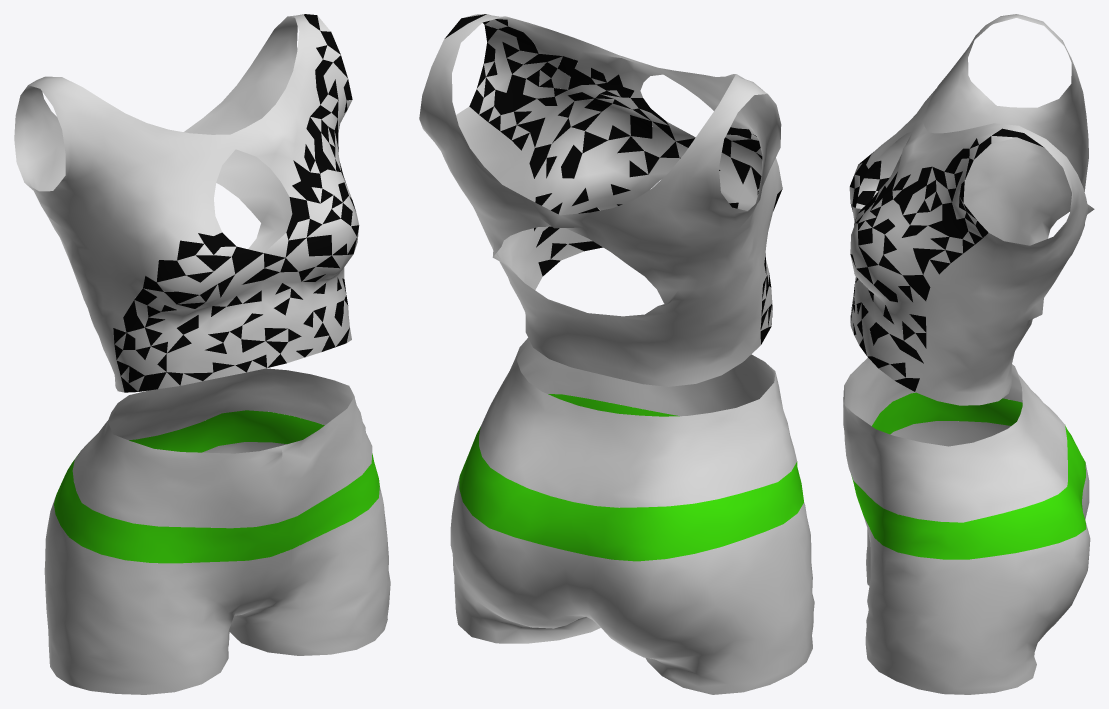
File: femaleGym.gltf
3 views of the same model, side by side, from view 1: azimuth 30°, elevation 25°; view 2: azimuth 150°, elevation 25°; view 3: azimuth 270°, elevation 25° (orthographic). The views are drawn at different scales.
Parts seen in each view (by area): view 1: WhiteGirlUA; view 2: WhiteGirlUA; view 3: WhiteGirlUA.
Boxes of the visible parts, x1=… form: WhiteGirlUA: x1=14, y1=14, x2=390, y2=694; WhiteGirlUA: x1=419, y1=14, x2=814, y2=694; WhiteGirlUA: x1=843, y1=14, x2=1094, y2=694.
Size of the model in its own units: 72.67 by 127 by 52.74.
